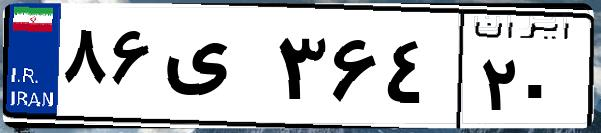0: (525, 38, 570, 115)
2: (475, 38, 525, 113)
3: (270, 28, 330, 110)
4: (385, 28, 445, 110)
6: (330, 28, 385, 110), (110, 28, 158, 98)
8: (57, 26, 110, 100)
ی: (158, 20, 270, 120)
